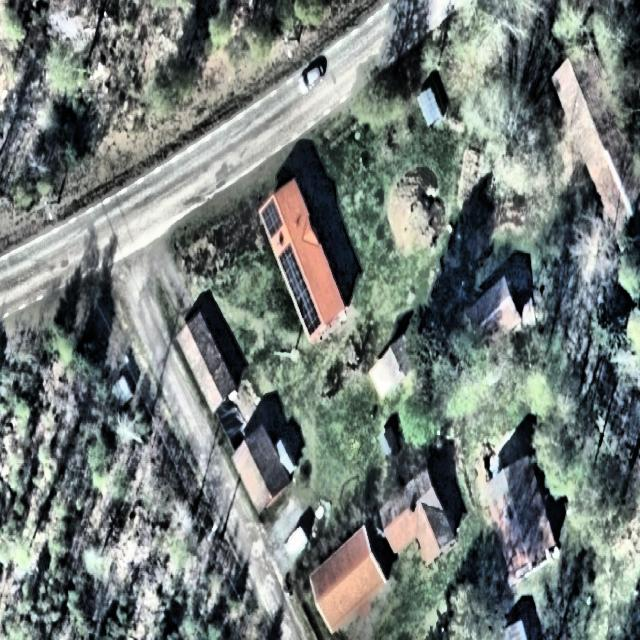roof_pv: (290, 275, 322, 336), (278, 243, 307, 286), (258, 198, 286, 240)
